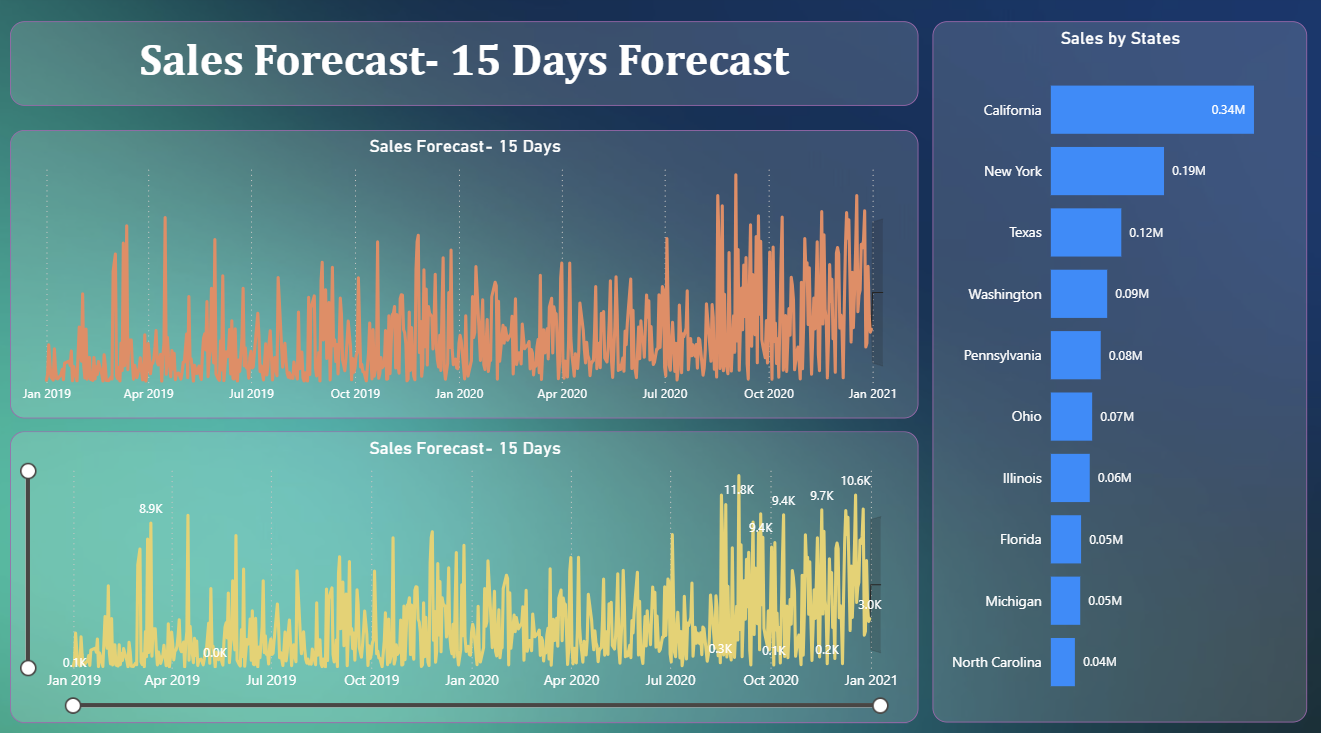

The page's visual inventory and layout, read from the dashboard file:
{"tool":"powerbi","page":{"name":"Forecast","canvas":[1280,720],"ordinal":3},"visuals":[{"type":"lineChart","title":"Sales Forecast- 15 Days","fields":{"Y":["Sum(SuperStore_Sales_Dataset.Sales)"],"Category":["SuperStore_Sales_Dataset.Order Date"]},"box":[14.3,130,877.1,278.6],"z":0},{"type":"lineChart","title":"Sales Forecast- 15 Days","fields":{"Y":["Sum(SuperStore_Sales_Dataset.Sales)"],"Category":["SuperStore_Sales_Dataset.Order Date"]},"box":[14.3,421.4,877.1,281.4],"z":1000},{"type":"barChart","title":"Sales by States","fields":{"Category":["SuperStore_Sales_Dataset.State"],"Y":["Sum(SuperStore_Sales_Dataset.Sales)"]},"box":[904.3,25.7,361.4,677.1],"z":2000},{"type":"textbox","box":[14.3,25.7,877.1,81.4],"z":3000}]}

Visuals, with their boxes in screenshot pixels (x1, y1, x2, y2), scaled from the page's 1280x720 canvas onto the 1321x733 screenshot:
"Sales Forecast- 15 Days" lineChart: bbox=(15, 132, 920, 416)
"Sales Forecast- 15 Days" lineChart: bbox=(15, 429, 920, 715)
"Sales by States" barChart: bbox=(933, 26, 1306, 715)
textbox: bbox=(15, 26, 920, 109)
